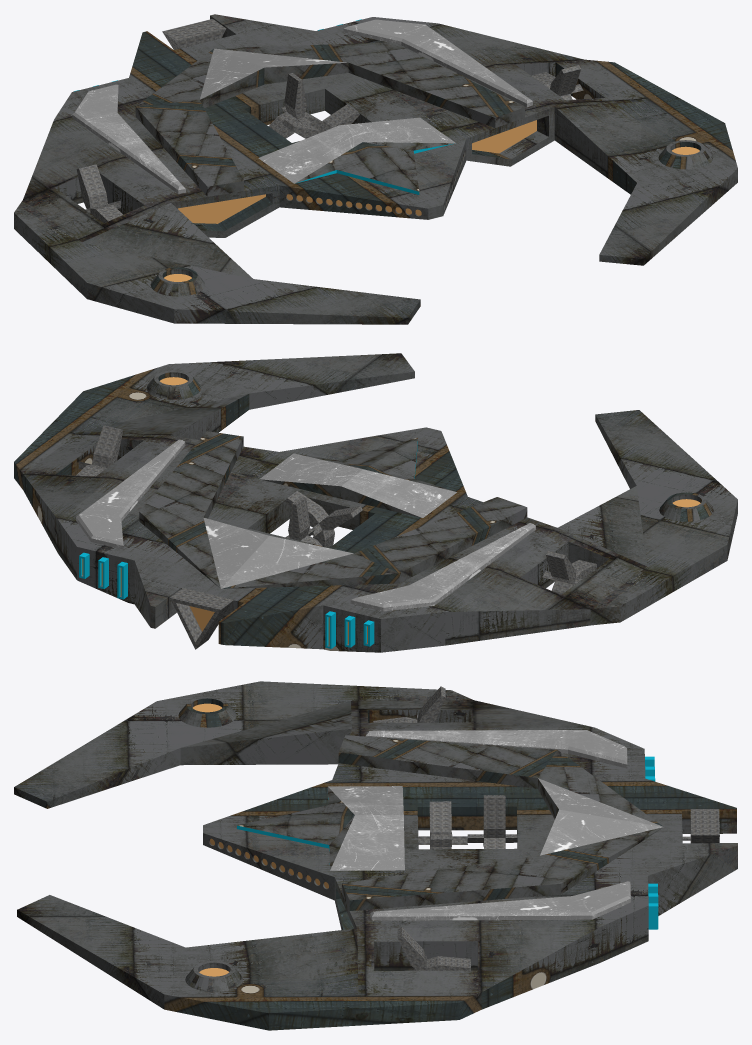
The model's file is DSK.fbx.
3 views of the same model, one above another, from view 1: azimuth 30°, elevation 25°; view 2: azimuth 150°, elevation 25°; view 3: azimuth 270°, elevation 25° (orthographic). The views are drawn at different scales.
Parts seen in each view (by area): view 1: Body, Gear_R, Gear_M2, CL, CR, Back_Burner, Gear_M1, Gear_L; view 2: Body, Back_Burner, Gear_M1, Gear_R, CR, CL, Gear_L, Gear_M2; view 3: Body, Gear_M2, CR, CL, Gear_M1, Gear_L, Back_Burner, Gear_R.
Boxes of the visible parts, box(x1,y1,x2,y2) form: Body: box(14, 14, 737, 324); Gear_R: box(76, 164, 123, 222); Gear_M2: box(268, 73, 321, 138); CL: box(658, 140, 713, 169); CR: box(150, 267, 205, 296); Back_Burner: box(162, 19, 226, 49); Gear_M1: box(282, 104, 359, 138); Gear_L: box(531, 65, 583, 99); Body: box(14, 353, 737, 652); Back_Burner: box(170, 588, 233, 649); Gear_M1: box(285, 491, 362, 547); Gear_R: box(542, 551, 596, 594); CR: box(659, 492, 713, 521); CL: box(146, 370, 200, 399); Gear_L: box(76, 425, 123, 476); Gear_M2: box(286, 496, 322, 546); Body: box(14, 681, 737, 1030); Gear_M2: box(467, 795, 517, 848); CR: box(178, 696, 236, 727); CL: box(185, 961, 243, 991); Gear_M1: box(418, 801, 467, 849); Gear_L: box(397, 927, 470, 970); Back_Burner: box(682, 809, 719, 843); Gear_R: box(373, 686, 445, 722).
Size of the model in its own units: 7.28 by 0.9255 by 6.71.
